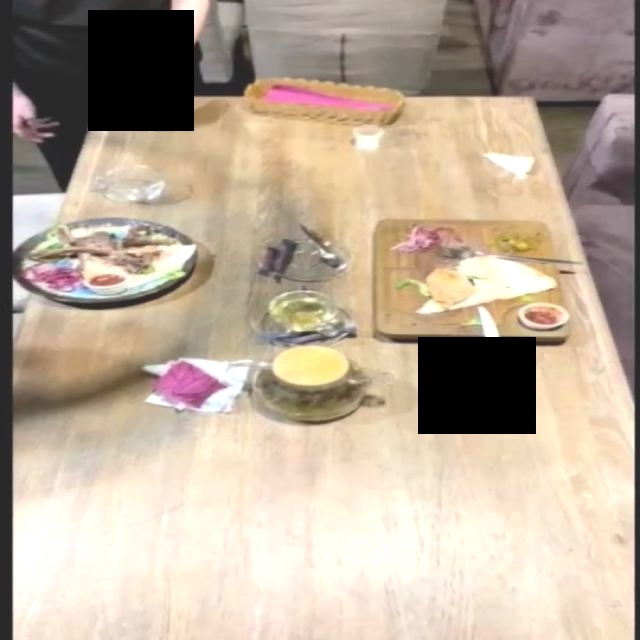meat: (372, 219, 572, 348), (0, 215, 220, 310)
tea: (253, 344, 372, 421)
